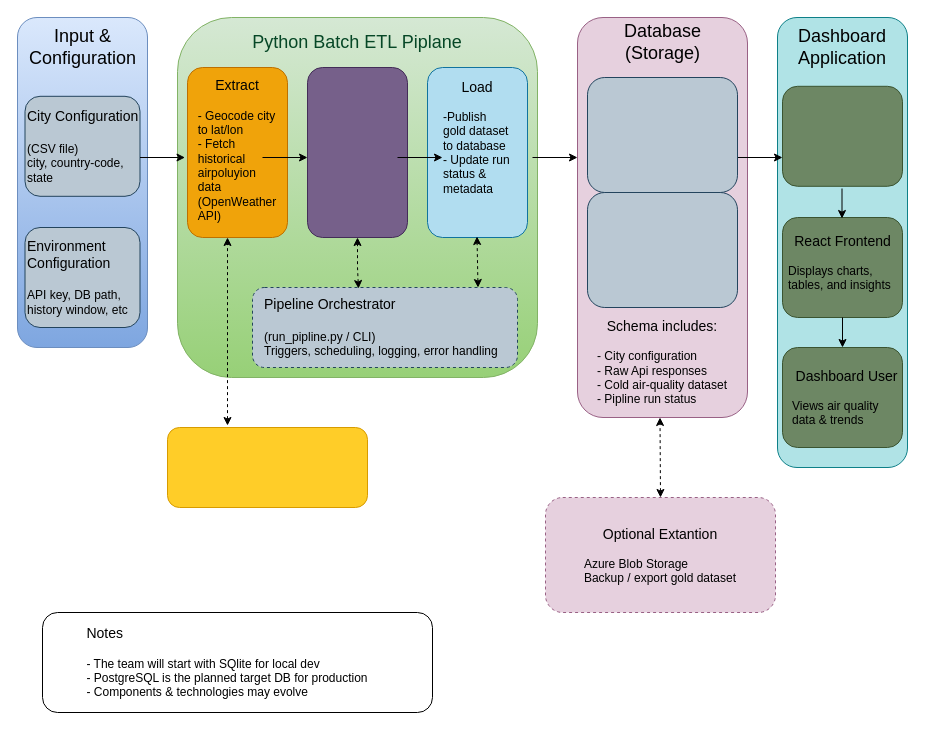
Image size: 925x730. Some labels were removed from this diagram. The shapes that lost their labels are listed below. From the top down, each one's box as (x1, y1, x2, y2) in pixels, then its label:
(306, 66, 408, 238): Transform - Validate & clean - Normalize -Deduplocate -Calculate derived fields
(586, 76, 738, 192): SQLite (Development) Current starting point for local development
(782, 85, 902, 186): Python Dashboard API (FastAPI) Serves data from DB
(586, 192, 738, 308): PostgreSQL (Target) Planned production storage
(166, 426, 368, 508): OpenWeather APIs - Geocoding API - Air Air Pollution history API
